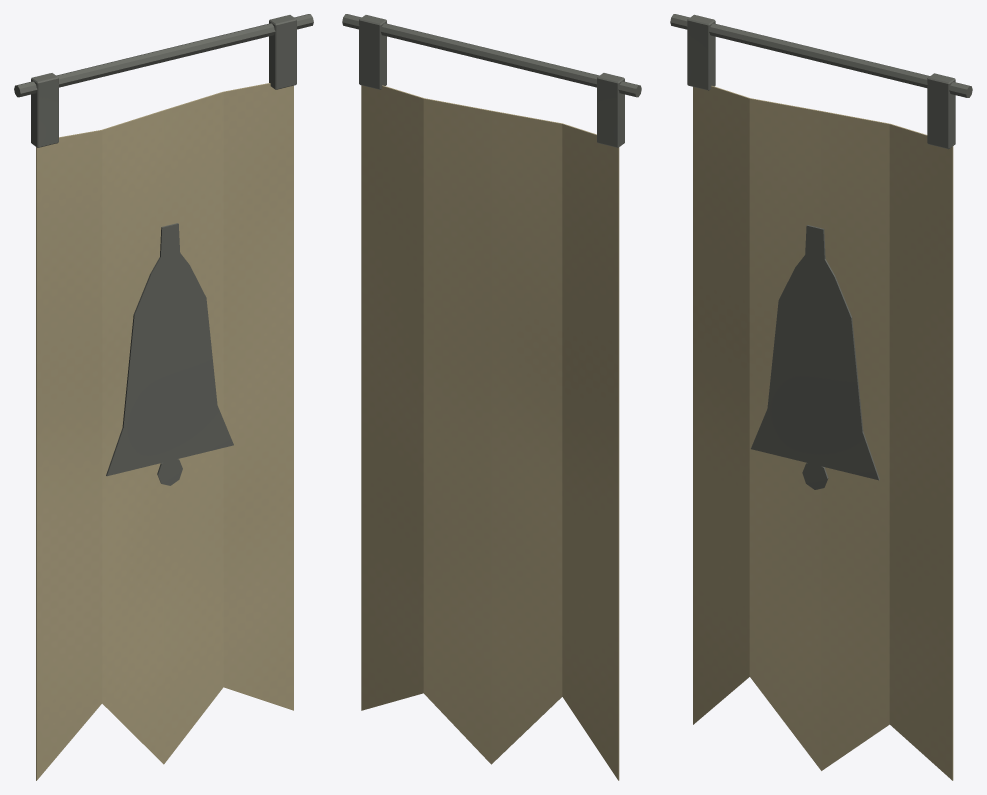
The model's file is WarrensC_CCS81_BankClothMarker_Mars_SM.fbx.
The picture shows the model from 3 angles, left to right: view 1: azimuth 30°, elevation 25°; view 2: azimuth 150°, elevation 25°; view 3: azimuth 330°, elevation 25°; orthographic projection.
Visible parts, largest first — view 1: WarrensC_CCS81_BankClothMarker_Mars_SM.001; view 2: WarrensC_CCS81_BankClothMarker_Mars_SM.001; view 3: WarrensC_CCS81_BankClothMarker_Mars_SM.001.
Boxes of the visible parts, x1,y1,x2,y2 form: WarrensC_CCS81_BankClothMarker_Mars_SM.001: (14,14,313,780); WarrensC_CCS81_BankClothMarker_Mars_SM.001: (342,14,641,780); WarrensC_CCS81_BankClothMarker_Mars_SM.001: (670,14,972,780).
Size of the model in its own units: 60 by 4 by 140.
